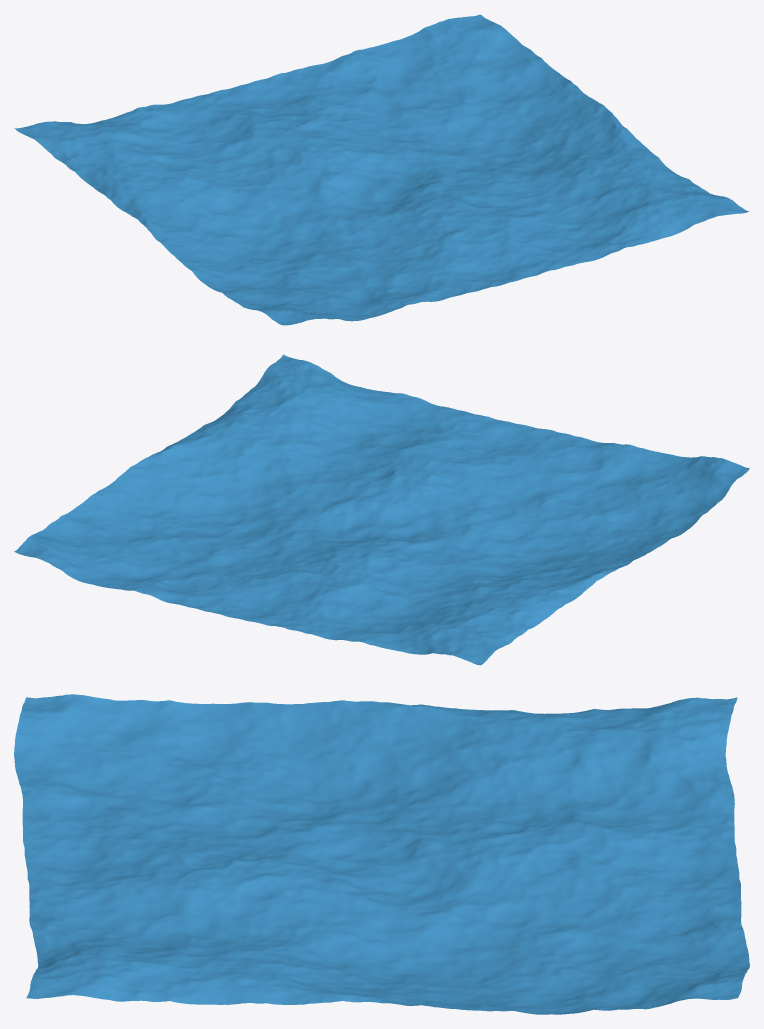
File: nami.gltf
The picture shows the model from 3 angles, top to bottom: view 1: azimuth 30°, elevation 25°; view 2: azimuth 150°, elevation 25°; view 3: azimuth 270°, elevation 25°; orthographic projection. The views are drawn at different scales.
Visible parts, largest first — view 1: Plane; view 2: Plane; view 3: Plane.
Boxes of the visible parts, x1=… form: Plane: x1=14, y1=14, x2=749, y2=325; Plane: x1=14, y1=354, x2=749, y2=665; Plane: x1=14, y1=694, x2=749, y2=1014.
Size of the model in its own units: 158 by 8.78 by 159.
